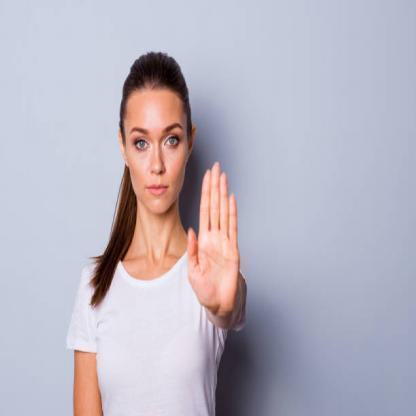stop: (184, 155, 242, 314)
